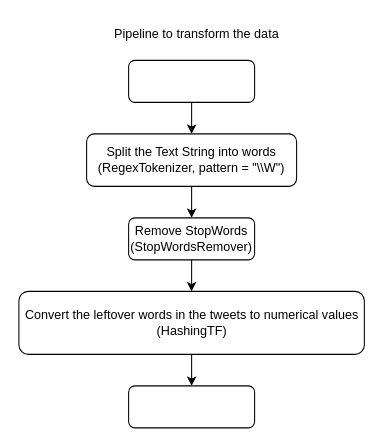
The diagram is 382 pixels wide and 446 high, and some of its shapes have lost their labels. Each missing label, with the centre of its shape:
"Read in the data (spark.read.csv)" goes at pixel 191 80.
"Run the pipeline" goes at pixel 191 406.
